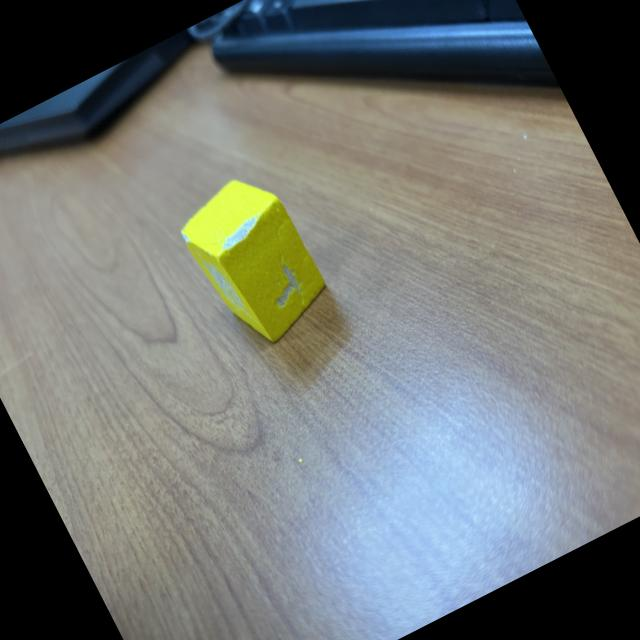broken: (168, 161, 342, 360)
